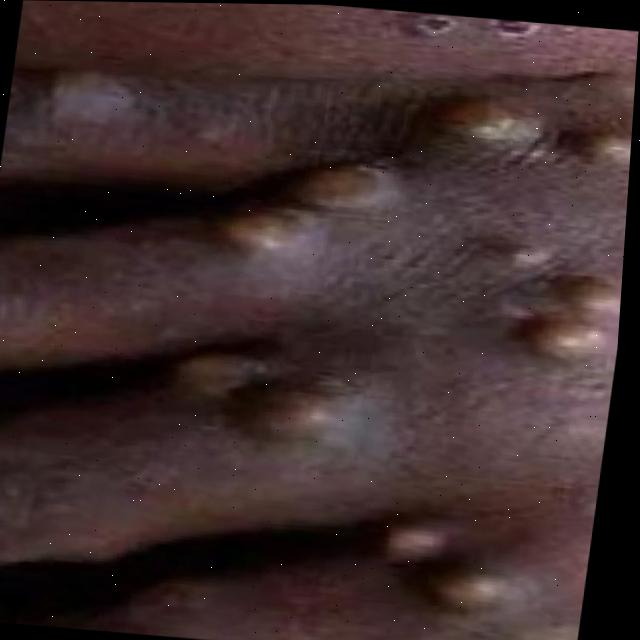Eczema: (0, 4, 640, 632)
